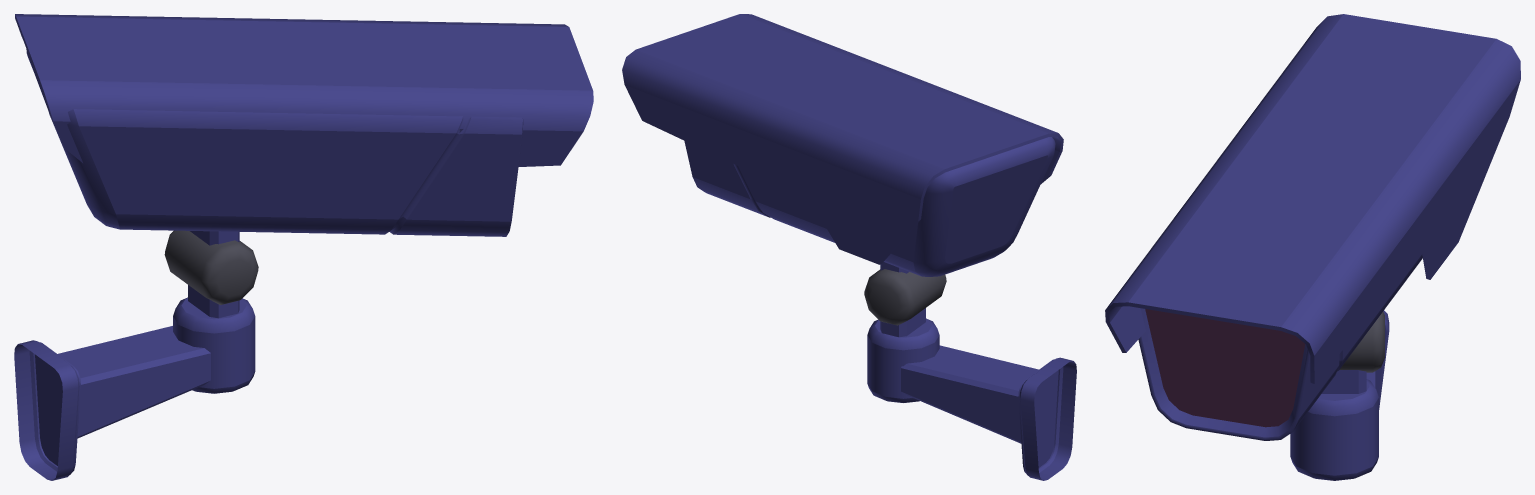
The model's file is CAMARA.fbx.
The picture shows the model from 3 angles, left to right: view 1: azimuth 30°, elevation 25°; view 2: azimuth 150°, elevation 25°; view 3: azimuth 270°, elevation 25°; orthographic projection. The views are drawn at different scales.
Parts seen in each view (by area): view 1: polySurface18, polySurface17, polySurface9, polySurface8, polySurface11, pCylinder1, polySurface13; view 2: polySurface18, polySurface17, polySurface9, polySurface8, polySurface11, pCylinder1, polySurface13; view 3: polySurface18, polySurface17, polySurface11, pCylinder1, polySurface13.
Part boxes in pixels (<box>): polySurface18: <box>15,14,593,166</box>; polySurface17: <box>26,49,523,236</box>; polySurface9: <box>58,326,210,438</box>; polySurface8: <box>14,340,80,480</box>; polySurface11: <box>173,297,255,393</box>; pCylinder1: <box>164,230,258,304</box>; polySurface13: <box>188,231,239,318</box>; polySurface18: <box>622,14,1063,264</box>; polySurface17: <box>684,137,1055,276</box>; polySurface9: <box>901,345,1038,443</box>; polySurface8: <box>1018,357,1076,480</box>; polySurface11: <box>867,318,939,402</box>; pCylinder1: <box>864,269,946,325</box>; polySurface13: <box>880,262,925,337</box>; polySurface18: <box>1105,14,1520,383</box>; polySurface17: <box>1138,254,1422,440</box>; polySurface11: <box>1290,379,1378,480</box>; pCylinder1: <box>1339,311,1384,372</box>; polySurface13: <box>1321,370,1366,393</box>.
Size of the model in its own units: 49.5 by 36.28 by 32.67.
